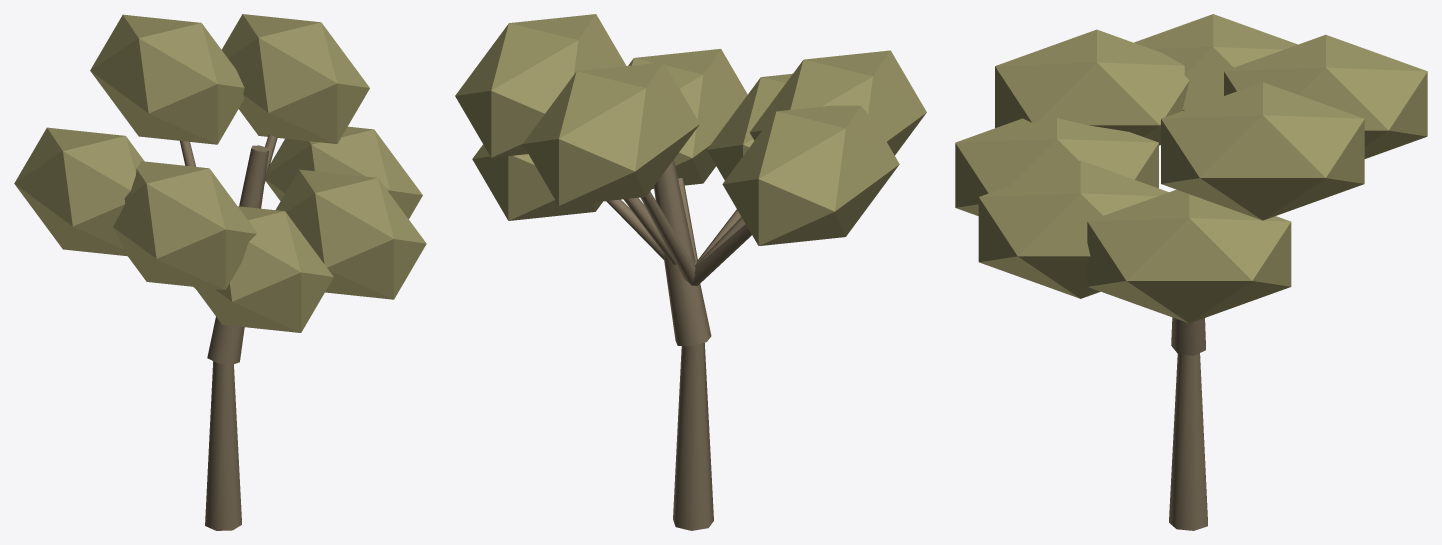
Rendered from saxaul.glb.
3 renders of one model, left to right at view 1: azimuth 30°, elevation 25°; view 2: azimuth 150°, elevation 25°; view 3: azimuth 270°, elevation 25°, orthographic. The views are drawn at different scales.
Parts seen in each view (by area): view 1: Саксаул; view 2: Саксаул; view 3: Саксаул.
Part boxes in pixels (box(x1,y1,x2,y2)): Саксаул: box(14, 14, 426, 530); Саксаул: box(455, 14, 926, 530); Саксаул: box(955, 14, 1427, 530).
Bounding box in the file's own units: 3.69 × 4.61 × 4.14.
